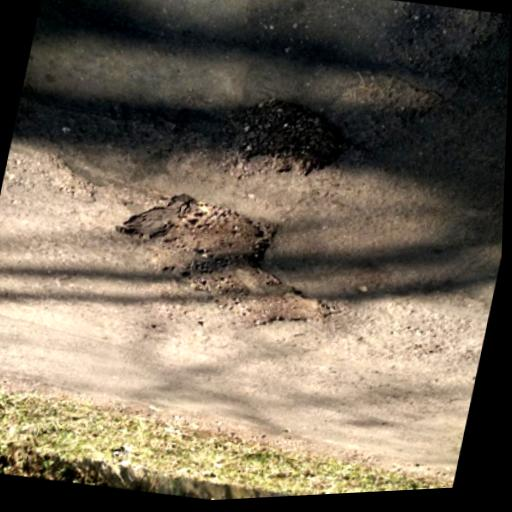pothole: (115, 182, 354, 353), (215, 85, 356, 191)
